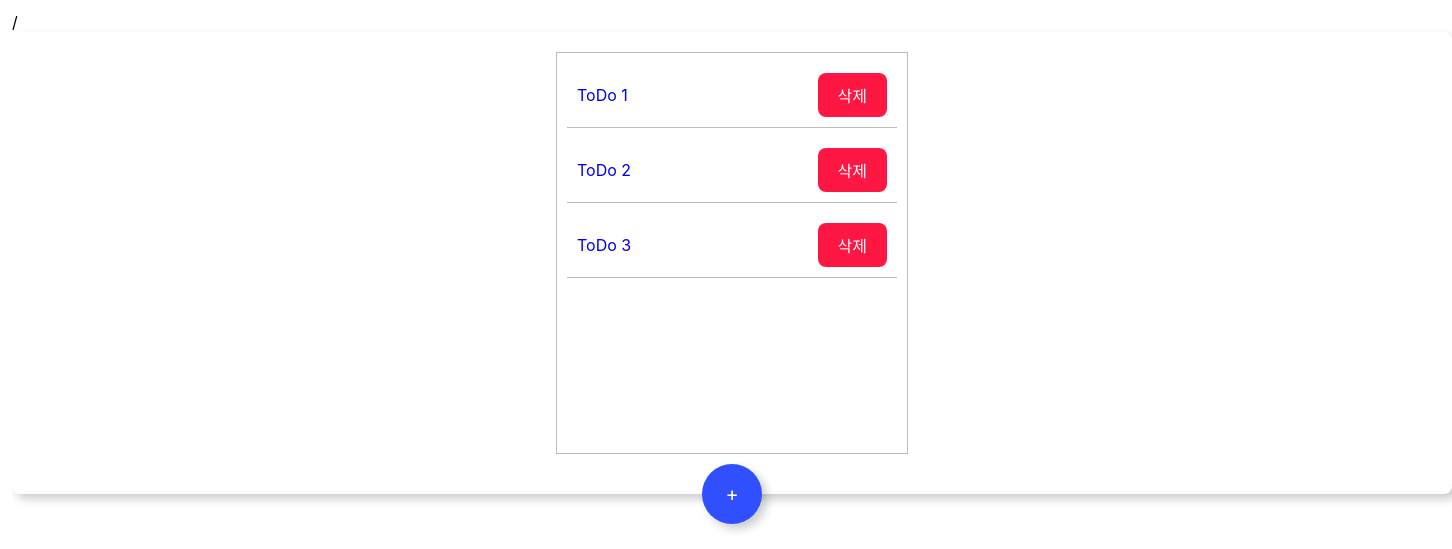
Test case: <List /> › moves to add page
Expected: the text "/" is shown, left=12, top=12, right=18, bottom=32
Click the link "+": (732, 494) left=702, top=464, right=762, bottom=524
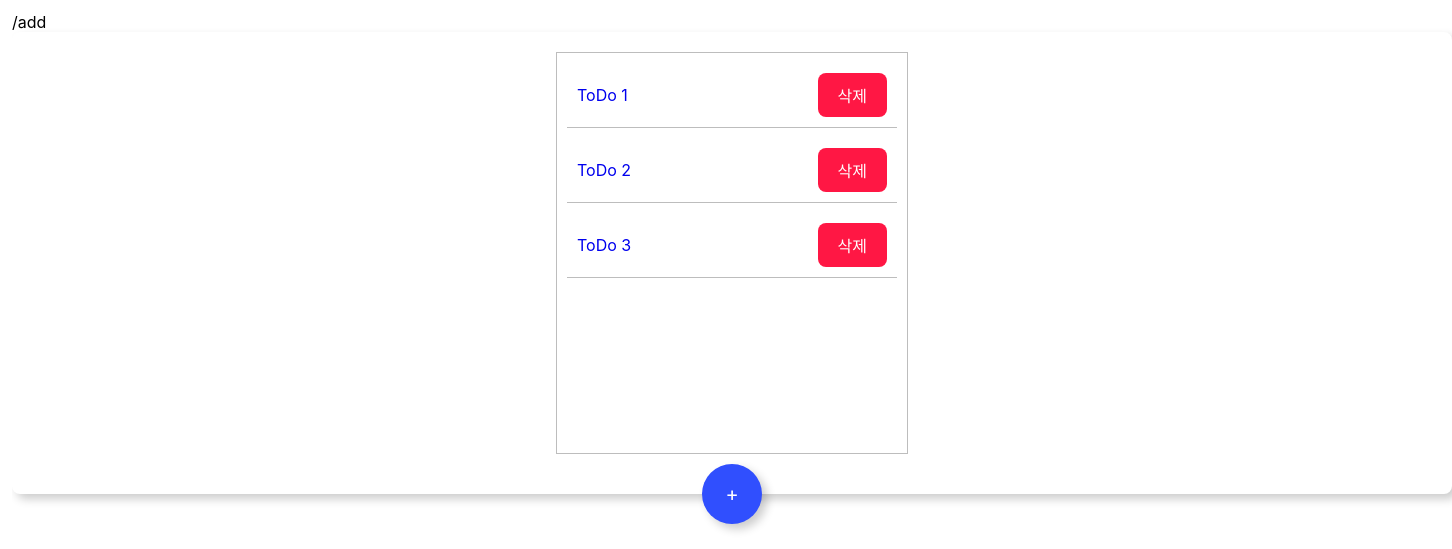
Expected: the text "/" reads "/add", left=12, top=12, right=46, bottom=32
